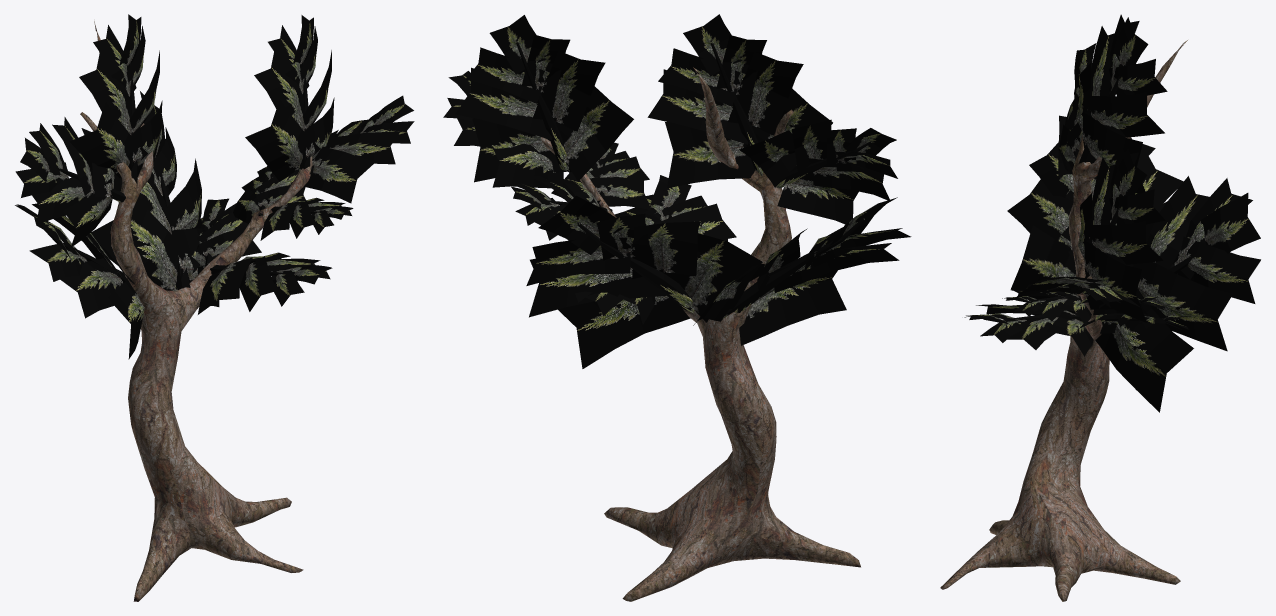
File: Arbol 3.fbx
3 renders of one model, left to right at view 1: azimuth 30°, elevation 25°; view 2: azimuth 150°, elevation 25°; view 3: azimuth 270°, elevation 25°, orthographic. The views are drawn at different scales.
Parts seen in each view (by area): view 1: Arbol_1; view 2: Arbol_1; view 3: Arbol_1.
Part boxes in pixels (bbox=[...]): Arbol_1: bbox=[15, 14, 414, 601]; Arbol_1: bbox=[443, 14, 911, 601]; Arbol_1: bbox=[940, 14, 1260, 601].
Bounding box in the file's own units: 1343 × 1726 × 922.
2 materials, 2 textured.
